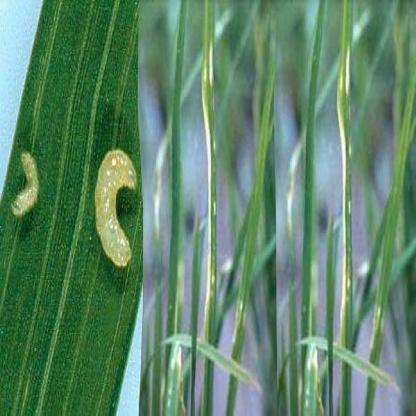whorl-maggot: (89, 144, 139, 272), (9, 138, 42, 228)
